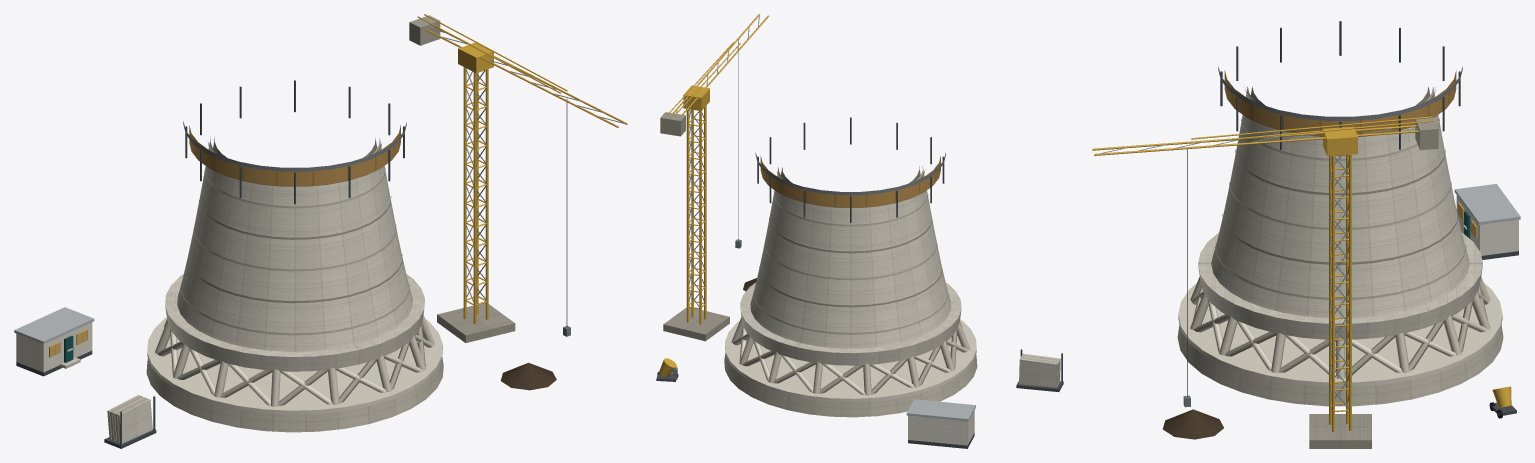
Rendered from lf-4-construction.glb.
3 views of the same model, side by side, from view 1: azimuth 30°, elevation 25°; view 2: azimuth 150°, elevation 25°; view 3: azimuth 270°, elevation 25° (orthographic). The views are drawn at different scales.
Bounding box in the file's own units: 35.33 × 21.87 × 27.35.
Materials: 23 (11 with a texture image).
